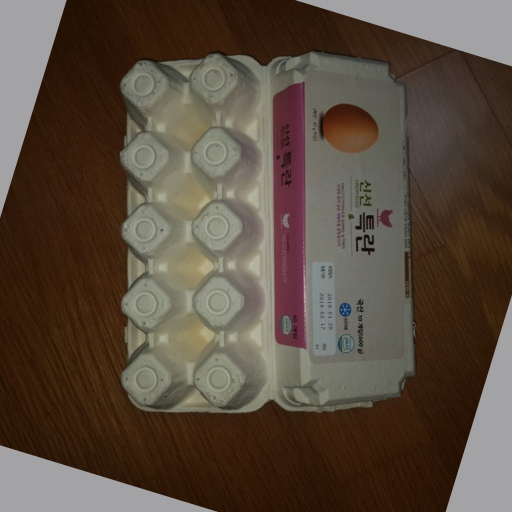Paper_0: (114, 49, 427, 418)
